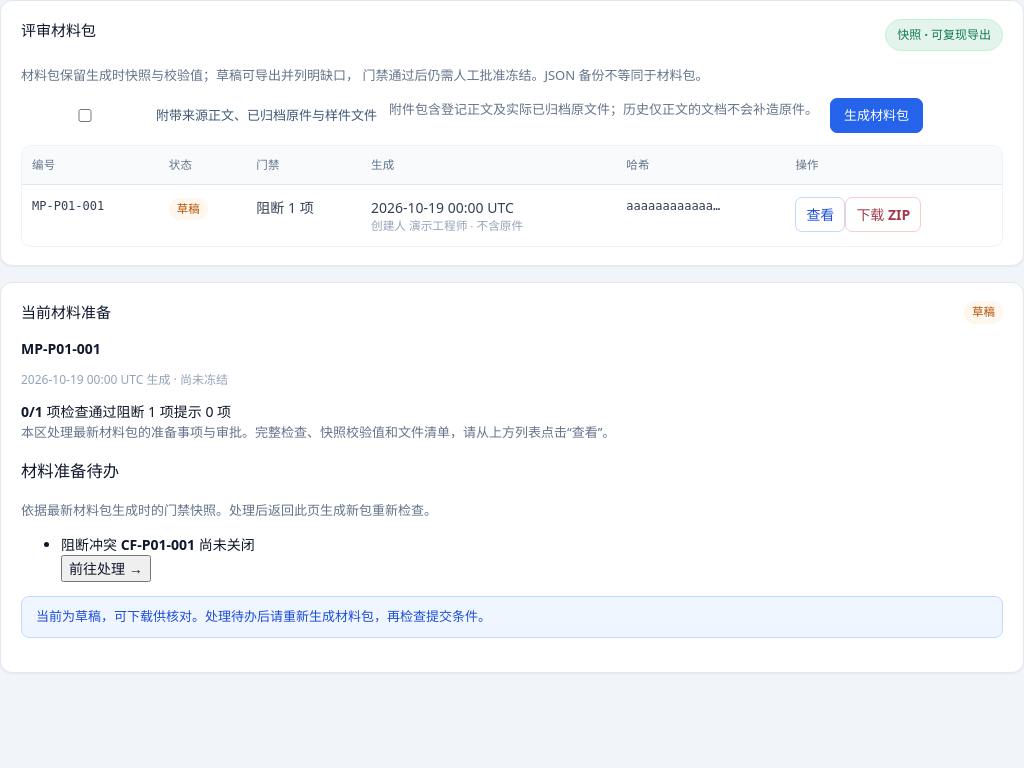
PackagePanel › keeps the preparation workspace actionable and puts detailed checks and hashes only in the view dialog
Expected: the text "MP-P01-001" is shown, x1=21 y1=338 x2=101 y2=358
Expected: the text "0/1 项检查通过" is shown, x1=21 y1=402 x2=116 y2=420
Click the button with aria-label "处理：阻断冲突 CF-P01-001 尚未关闭" at (106, 569), box x1=61 y1=556 x2=151 y2=582
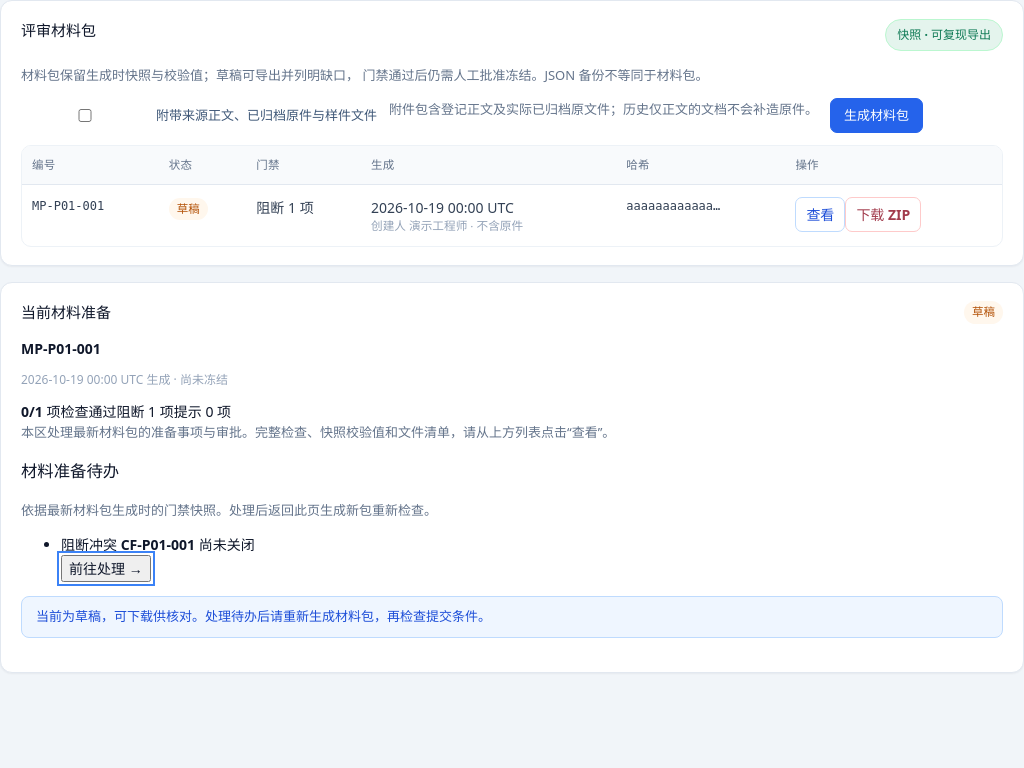
Click the button "查看" at (820, 214), box x1=795 y1=196 x2=845 y2=232
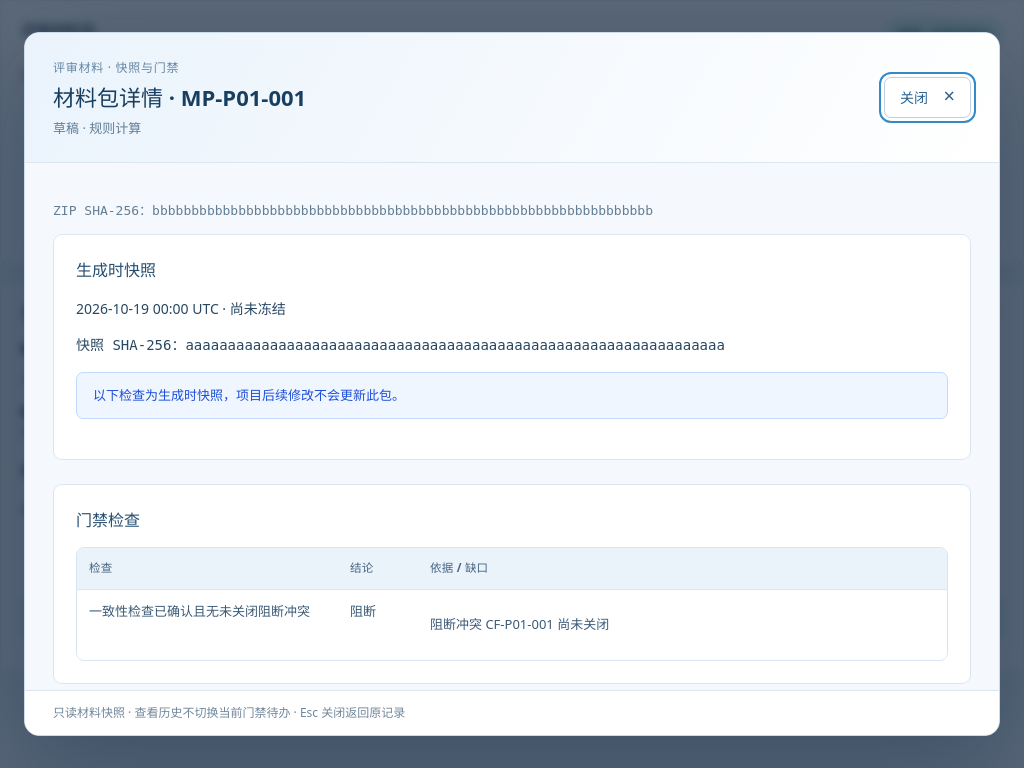
Now the heading "生成时快照" is shown, box x1=76 y1=259 x2=156 y2=281
Now the text "一致性检查已确认且无未关闭阻断冲突" is shown, box x1=77 y1=590 x2=338 y2=660
